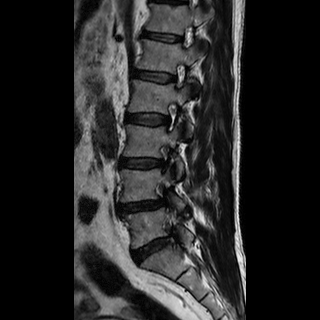RFS0: (159, 96, 182, 135), (167, 59, 192, 93)
RFS2: (152, 139, 175, 176)
